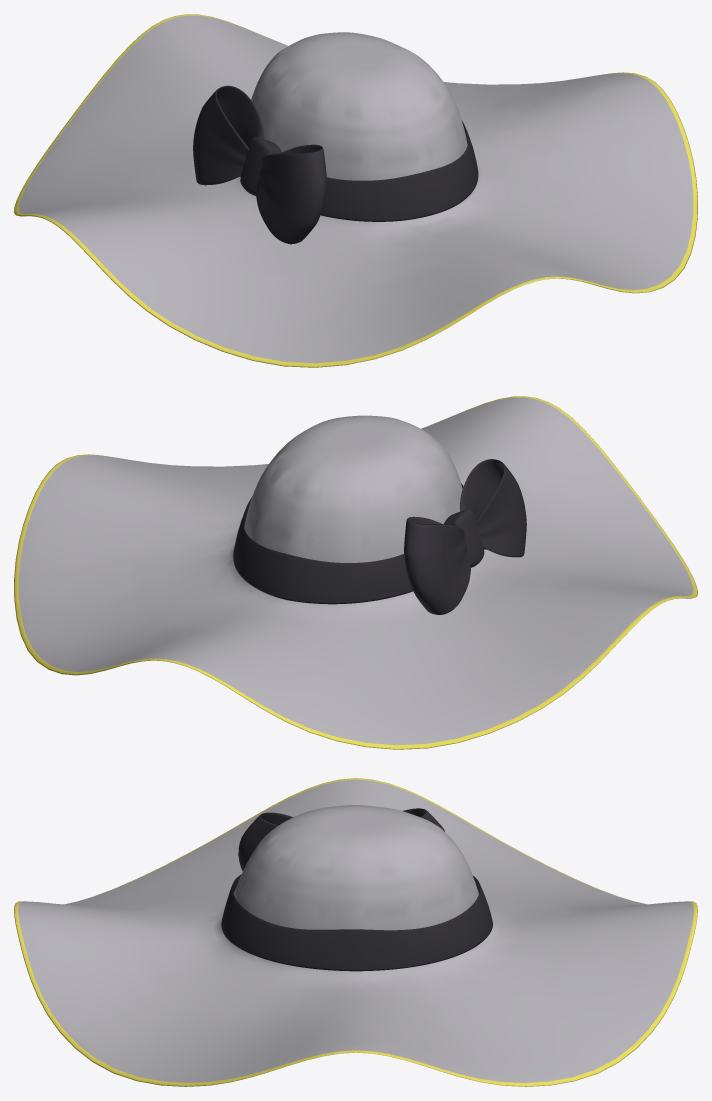
Rendered from YellowHat.fbx.
3 renders of one model, top to bottom at view 1: azimuth 30°, elevation 25°; view 2: azimuth 150°, elevation 25°; view 3: azimuth 270°, elevation 25°, orthographic. The views are drawn at different scales.
Parts seen in each view (by area): view 1: polySurface1, polySurface480, polySurface2, polySurface482; view 2: polySurface1, polySurface480, polySurface2, polySurface482; view 3: polySurface1, polySurface2, polySurface480.
Boxes of the visible parts, <box> form: polySurface1: <box>14,14,697,367</box>; polySurface480: <box>193,85,326,244</box>; polySurface2: <box>320,121,478,221</box>; polySurface482: <box>240,137,281,195</box>; polySurface1: <box>14,396,697,749</box>; polySurface480: <box>404,459,526,614</box>; polySurface2: <box>233,483,463,604</box>; polySurface482: <box>443,509,484,567</box>; polySurface1: <box>14,778,697,1086</box>; polySurface2: <box>221,874,492,971</box>; polySurface480: <box>238,808,444,871</box>.
Size of the model in its own units: 20.92 by 5.67 by 22.02.
